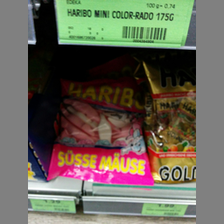candy: (49, 84, 154, 185), (143, 59, 196, 186)
